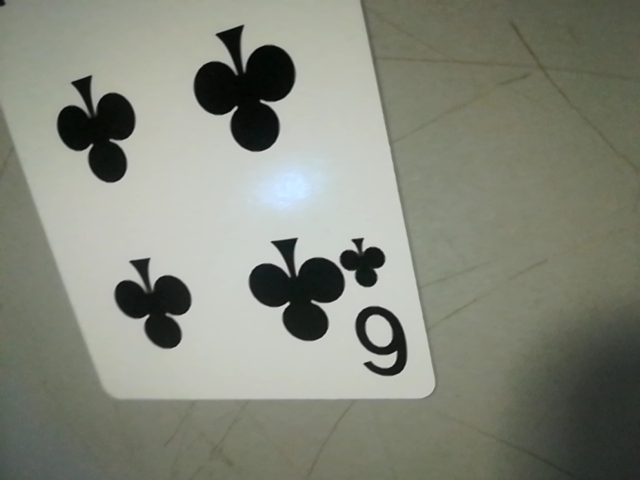mh 6: (338, 226, 422, 389)
